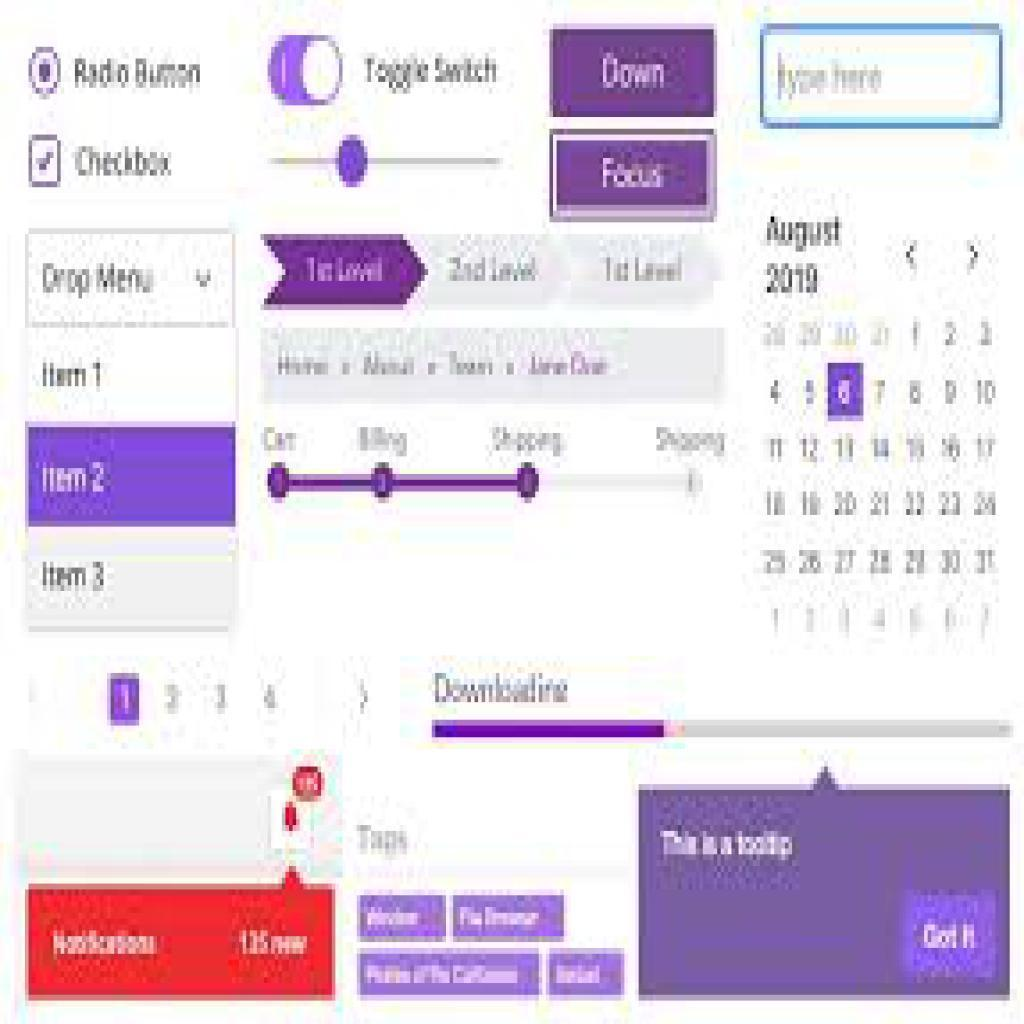button: (558, 132, 711, 219), (554, 32, 715, 114), (906, 895, 1000, 982)
checkbox: (30, 138, 63, 186)
dropdown: (30, 232, 232, 323)
input: (763, 26, 1004, 128)
radio: (30, 48, 63, 105)
slider: (260, 411, 733, 515), (270, 125, 513, 198)
switch: (271, 35, 345, 103)
